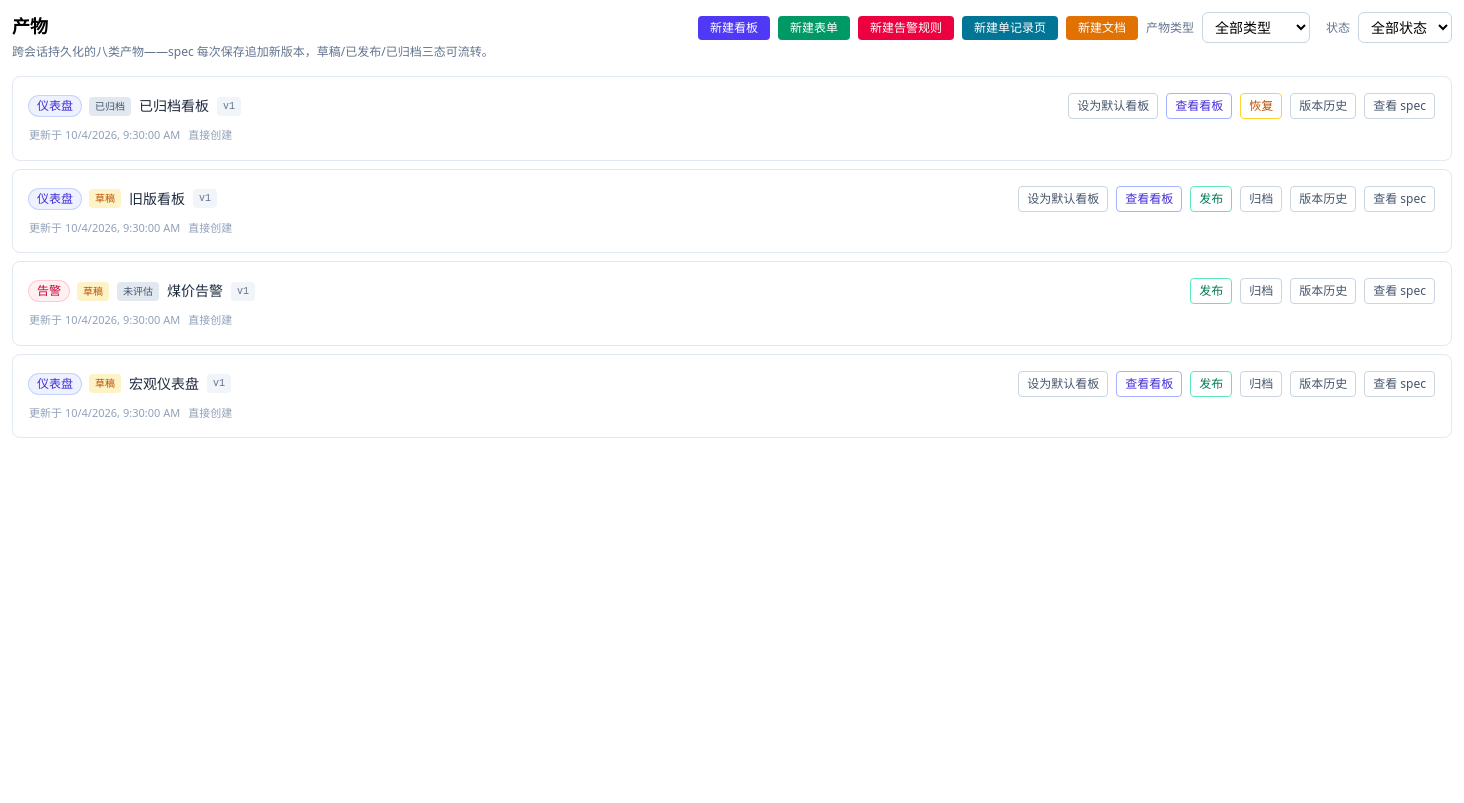
Test: 产物页 dashboard 集成（查看看板 → 编辑 → 保存 v2 → 新版本生效） › legacy 仪表盘：旧版自由格式 + 只读 JSON；编辑入口禁用
Click the button with test id "artifact-dashboard-view" in the row of "旧版看板".
click(1149, 198)  # box [1116,186,1182,212]
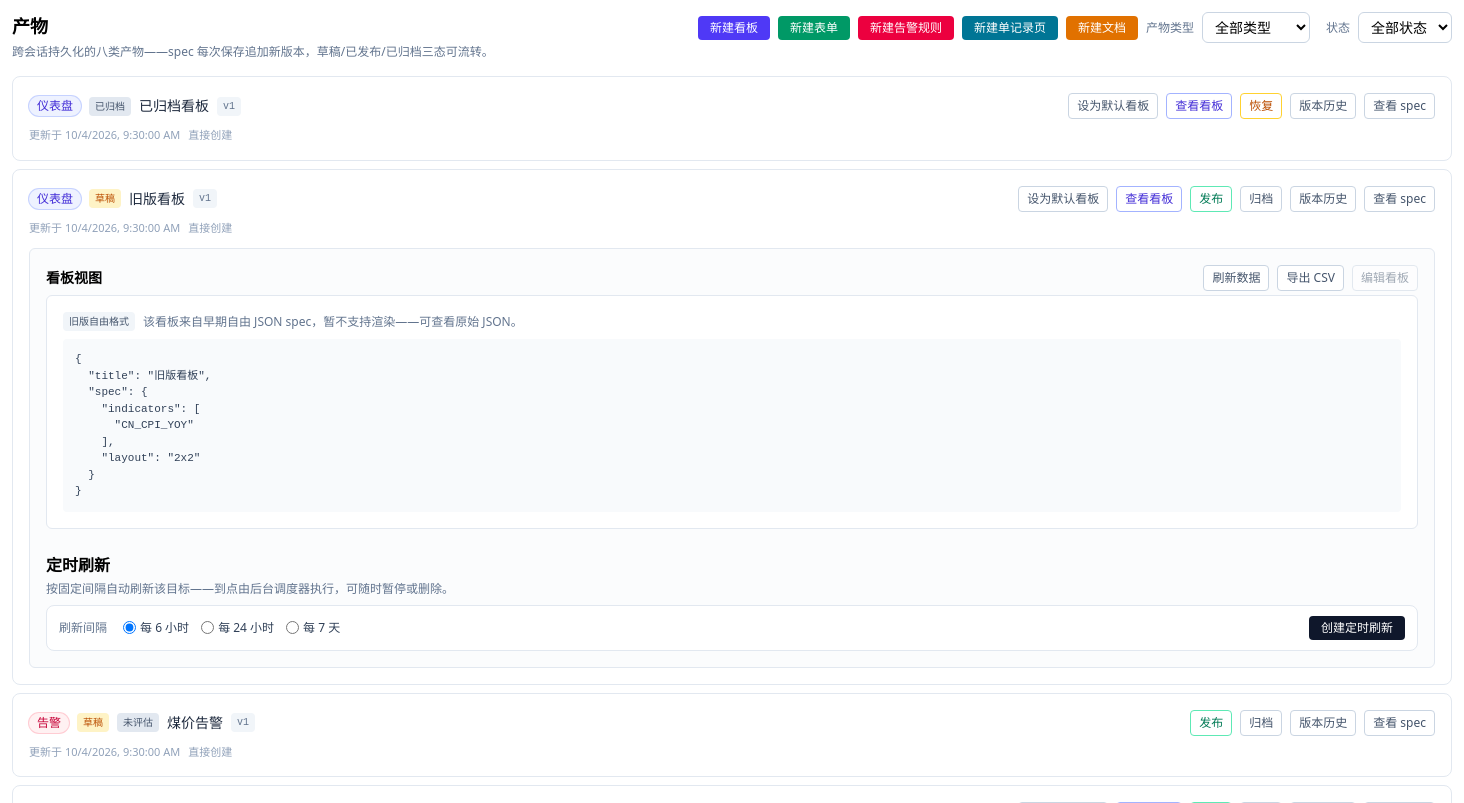
Now the element with test id "dashboard-legacy" is shown, box [46,295,1418,528]
Now the text with test id "dashboard-legacy-json" shows "CN_CPI_YOY", box [75,353,211,497]
Now the button with test id "dashboard-edit" is disabled, box [1352,265,1418,291]
